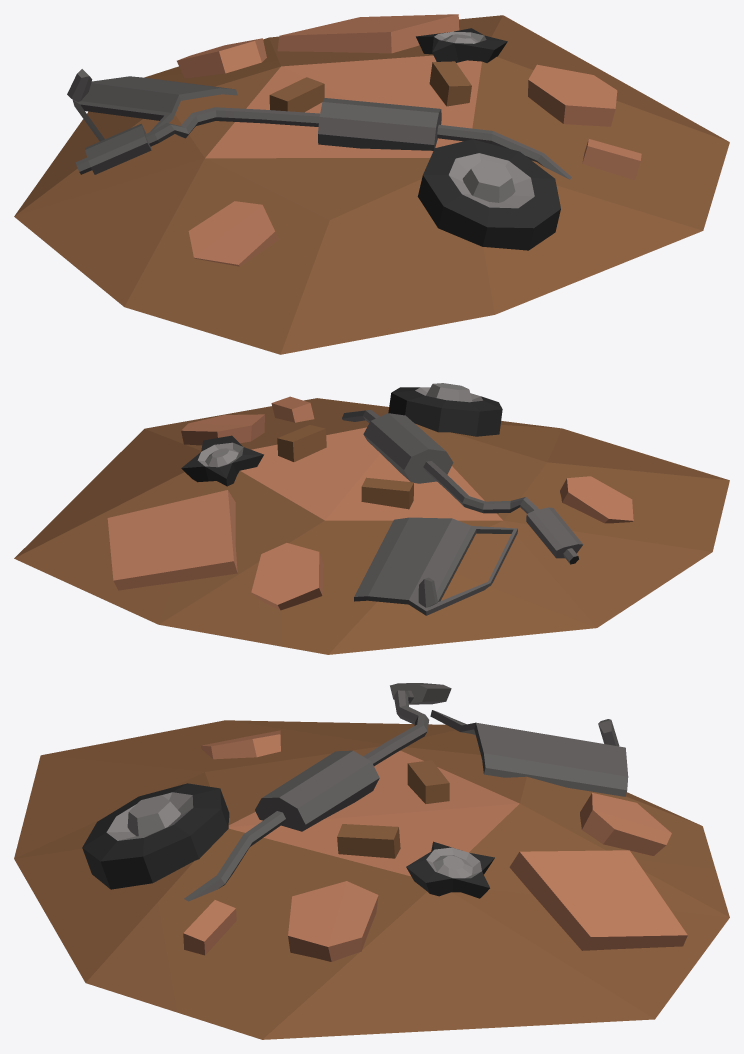
File: apocalypse_rubble-apocalypse-e.fbx
3 views of the same model, one above another, from view 1: azimuth 30°, elevation 25°; view 2: azimuth 150°, elevation 25°; view 3: azimuth 270°, elevation 25° (orthographic). The views are drawn at different scales.
Visible parts, largest first — view 1: apocalypse_rubble_apocalypse_e; view 2: apocalypse_rubble_apocalypse_e; view 3: apocalypse_rubble_apocalypse_e.
Part boxes in pixels (left/top/right/bottom): apocalypse_rubble_apocalypse_e: left=14, top=14, right=729, bottom=354; apocalypse_rubble_apocalypse_e: left=14, top=383, right=729, bottom=654; apocalypse_rubble_apocalypse_e: left=14, top=683, right=729, bottom=1039.
Bounding box in the file's own units: 200 × 29.9 × 189.
